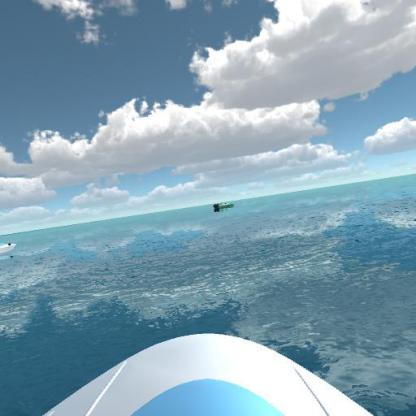usv0: (212, 198, 237, 214)
usv1: (0, 237, 22, 259)
